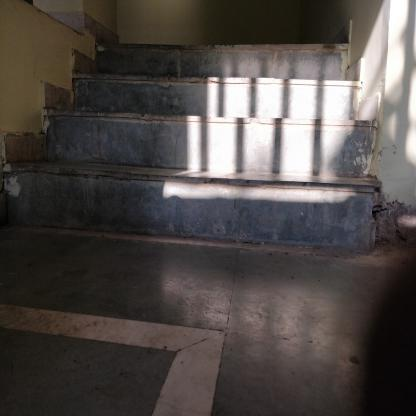stairs: (101, 41, 348, 259)
